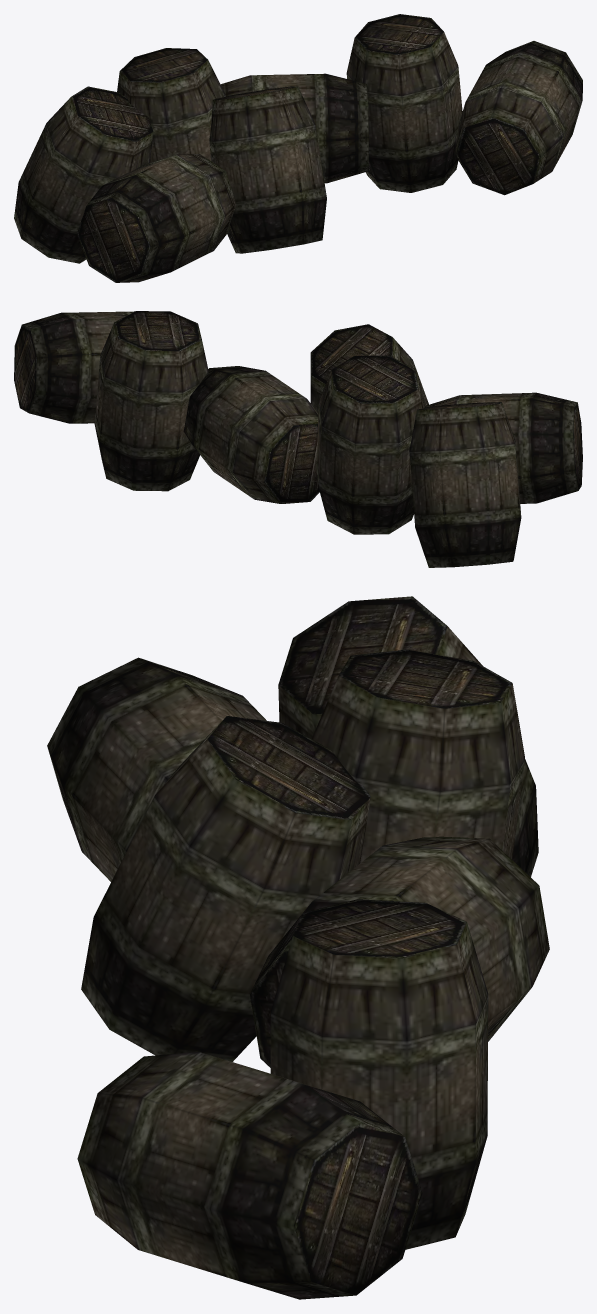
Rendered from NW_HARBOUR_BARRELGROUP_02.glb.
3 renders of one model, top to bottom at view 1: azimuth 30°, elevation 25°; view 2: azimuth 150°, elevation 25°; view 3: azimuth 270°, elevation 25°, orthographic. The views are drawn at different scales.
Parts seen in each view (by area): view 1: Mesh; view 2: Mesh; view 3: Mesh.
Part boxes in pixels (<box>): Mesh: <box>14,14,582,282</box>; Mesh: <box>14,311,582,567</box>; Mesh: <box>47,596,549,1299</box>.
Bounding box in the file's own units: 4.34 × 1.36 × 1.79.
Materials: 1 (1 with a texture image).
